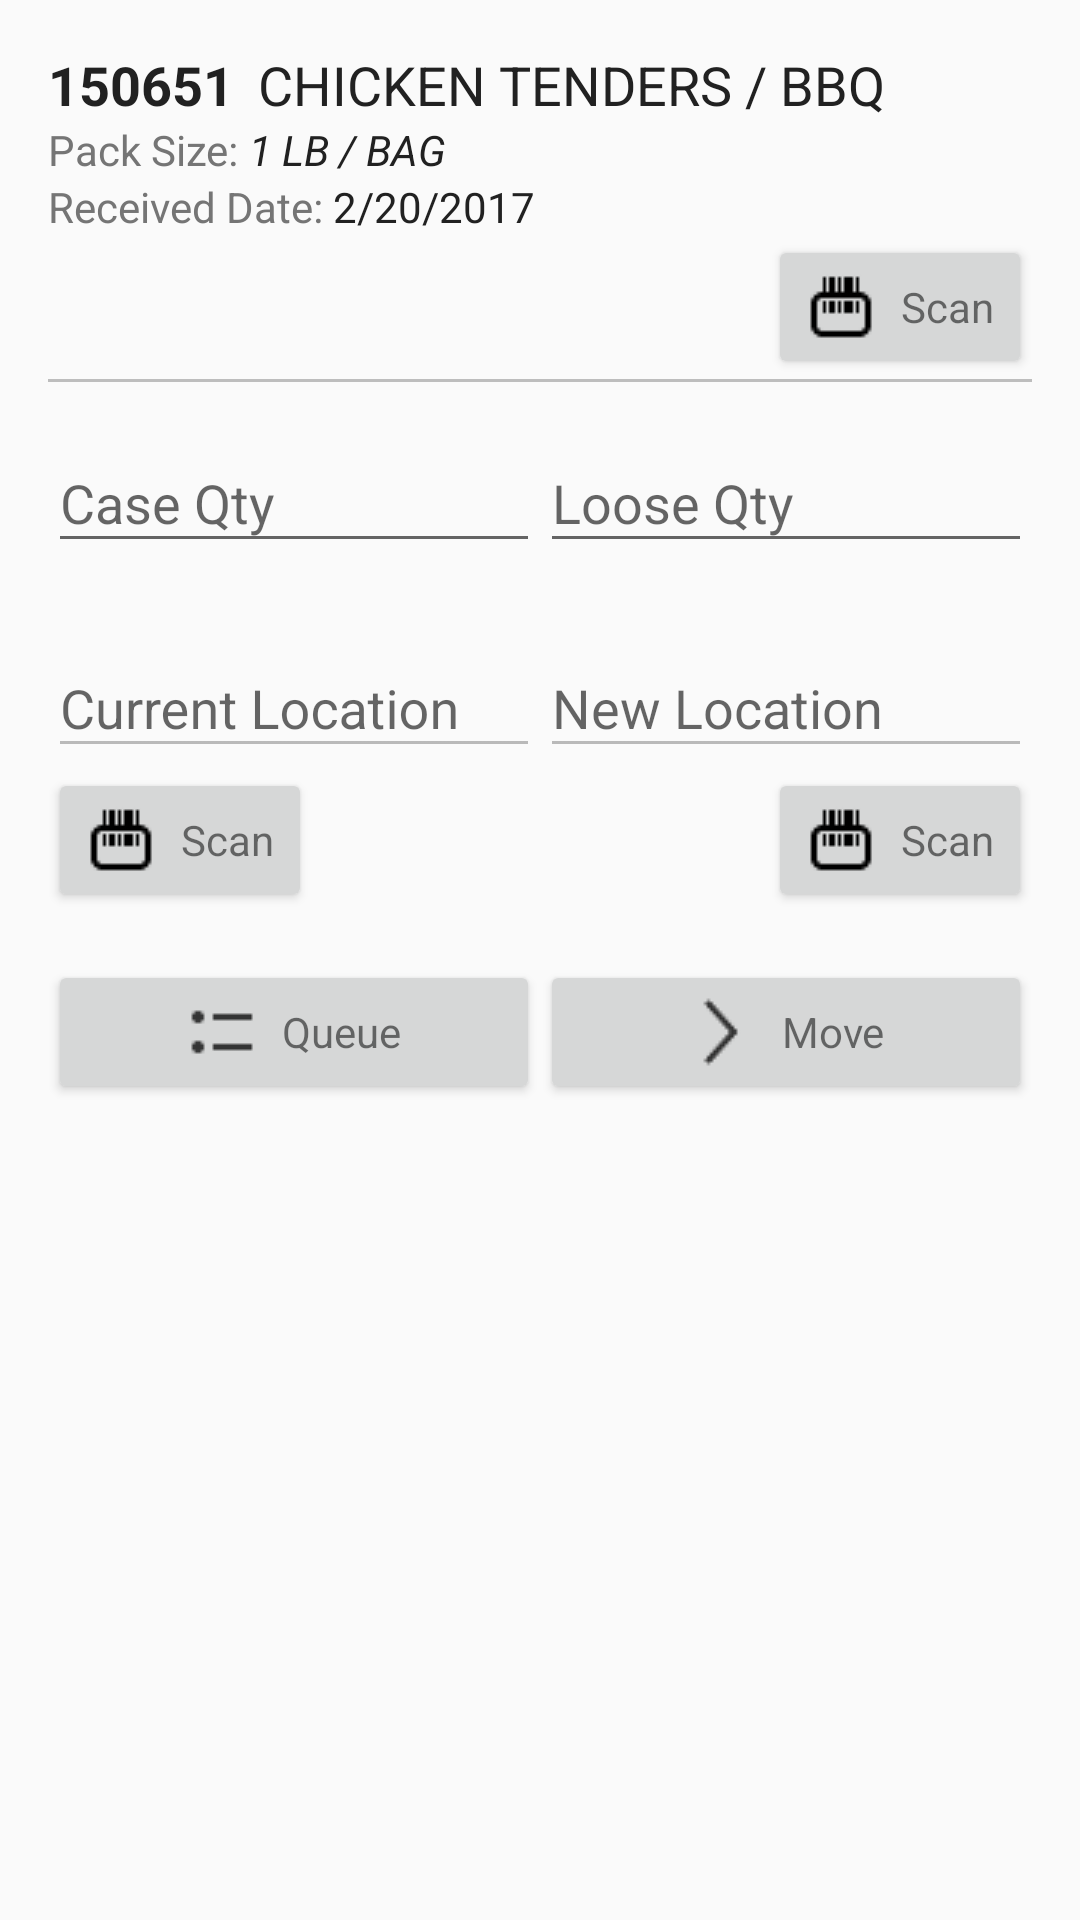

Point at icon controls on the screen. Image size 1080×1920, points as (x,y).
forward: (720,1032)
list: (222,1032)
